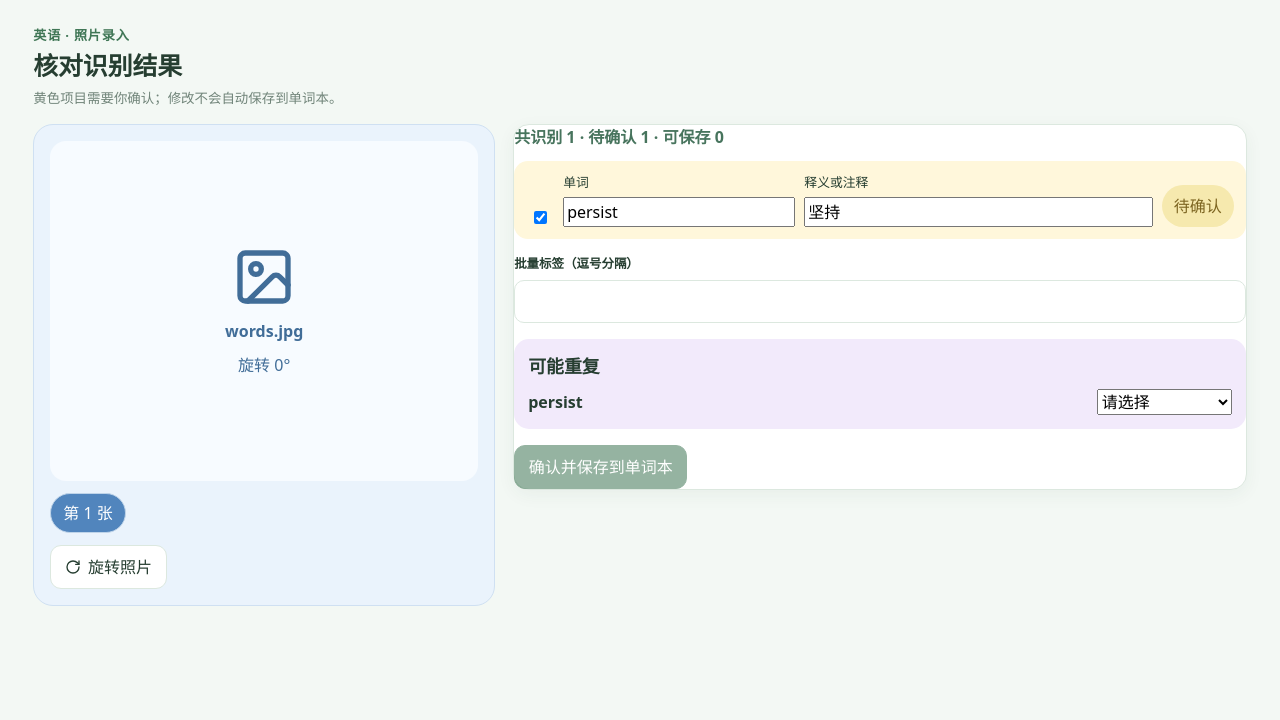
Test: blocks saving until uncertain and duplicate candidates are resolved
The image size is (1280, 720).
Expected: the text "words.jpg" is shown, 225,319 -> 303,343
Expected: the button "确认并保存到单词本" is disabled, 514,445 -> 687,489
Step 1. Select "追加新释义" in the dropdown named "处理重复词 persist" → (1164, 402), box 1097,389 -> 1232,415
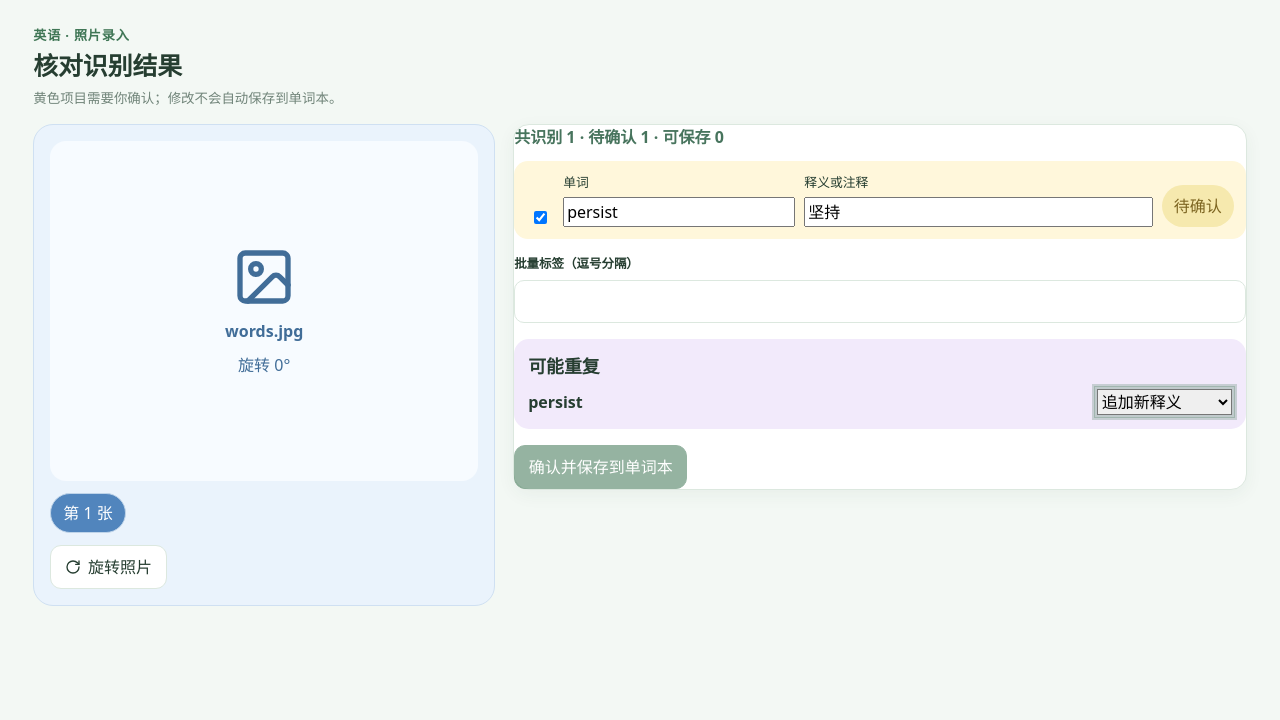
Expected: the button "确认并保存到单词本" is disabled, 514,445 -> 687,489
Step 2. Click the button "待确认" → (1198, 206), box 1162,186 -> 1234,228
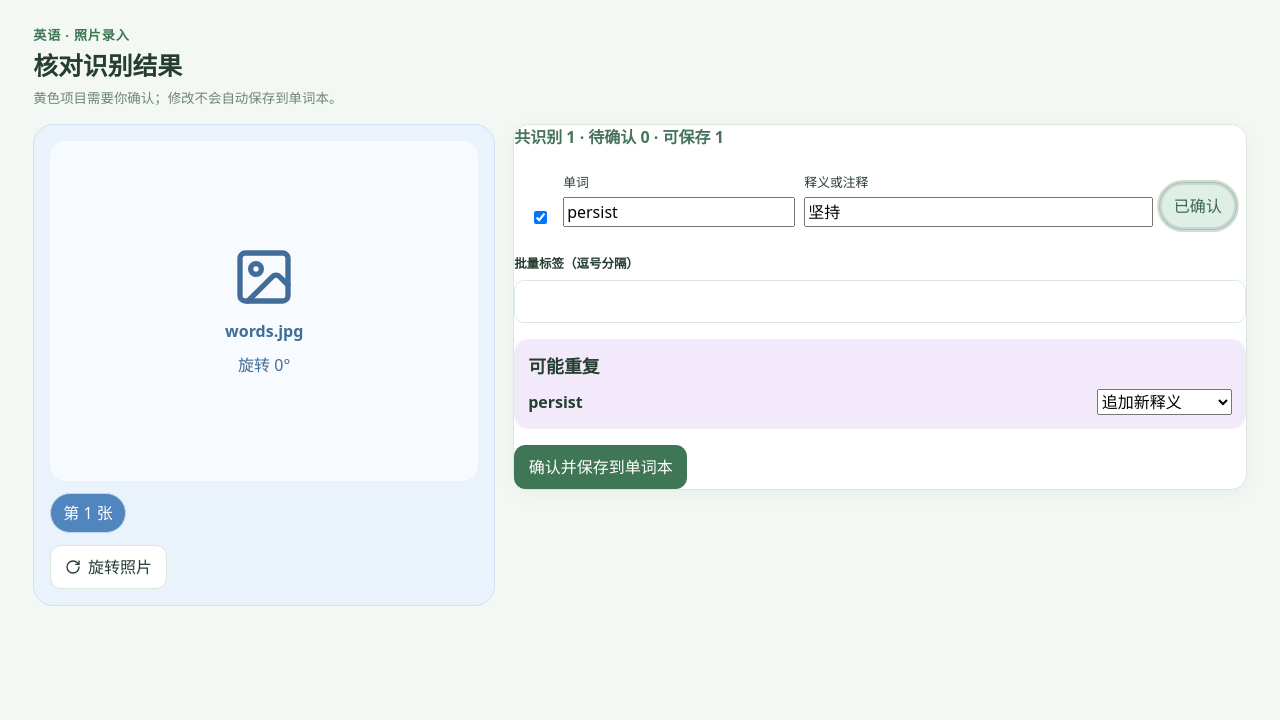
Expected: the button "确认并保存到单词本" is enabled
Step 3. Click the button "确认并保存到单词本" → (601, 467), box 514,445 -> 687,489
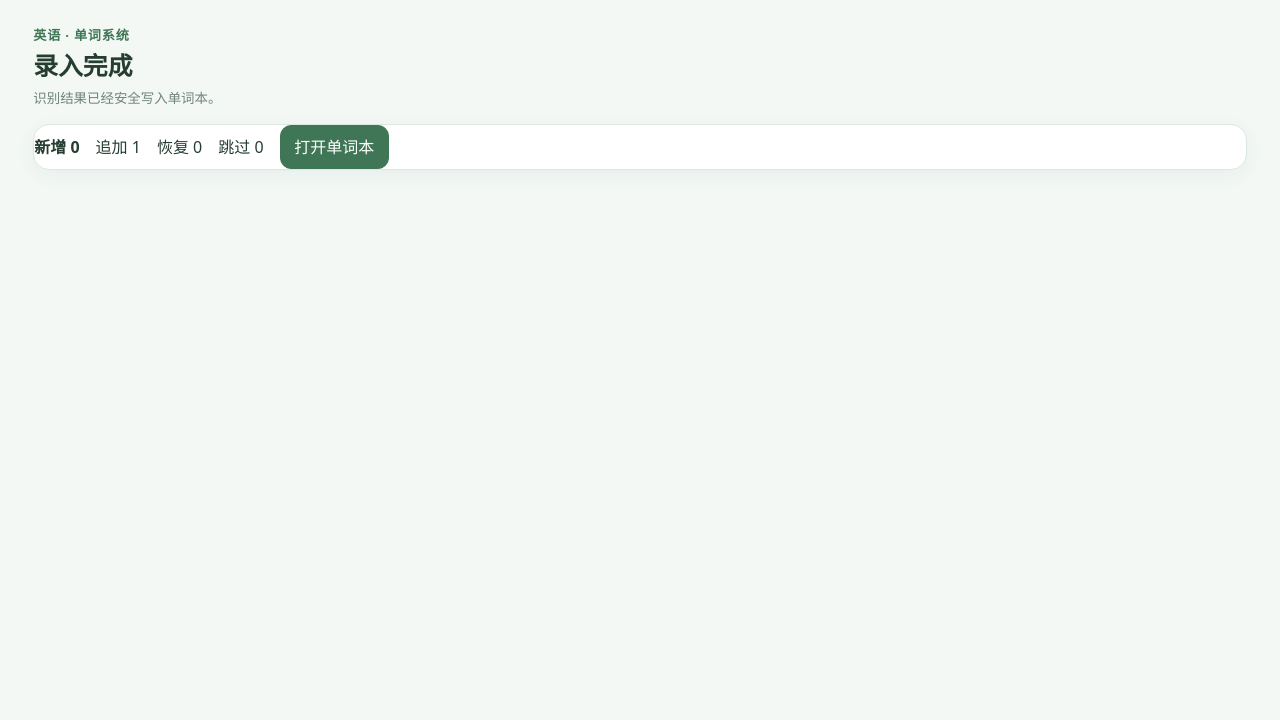
Expected: the heading "录入完成" is shown, 33,48 -> 132,82
